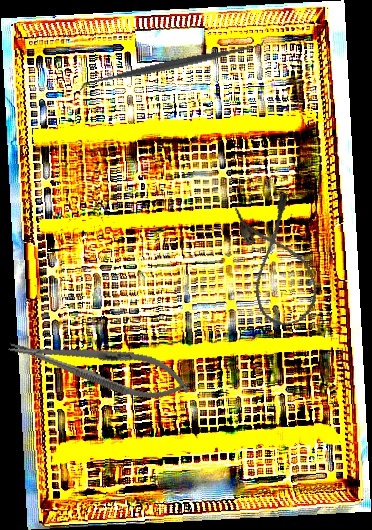Cannula: (232, 191, 324, 331)
Needle Holder: (4, 323, 195, 410)
Spatula Surgical: (75, 35, 268, 96)
